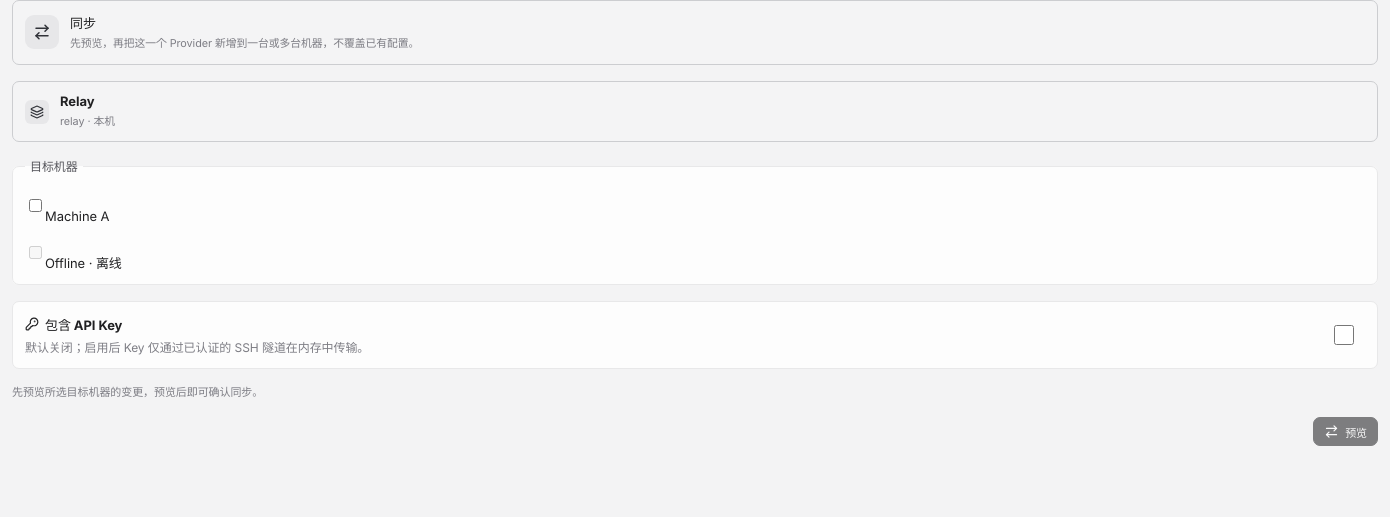
Test: provider transfer › makes preview actionable after selecting a target, then requires a second click to apply
Expected: the button "预览" is disabled, [1313,417,1378,446]
Expected: the checkbox labelled "Offline · 离线" is disabled, [29,237,42,268]
Step 1. Click the checkbox labelled "Machine A" → coordinates (36, 206), box [29,190,42,221]
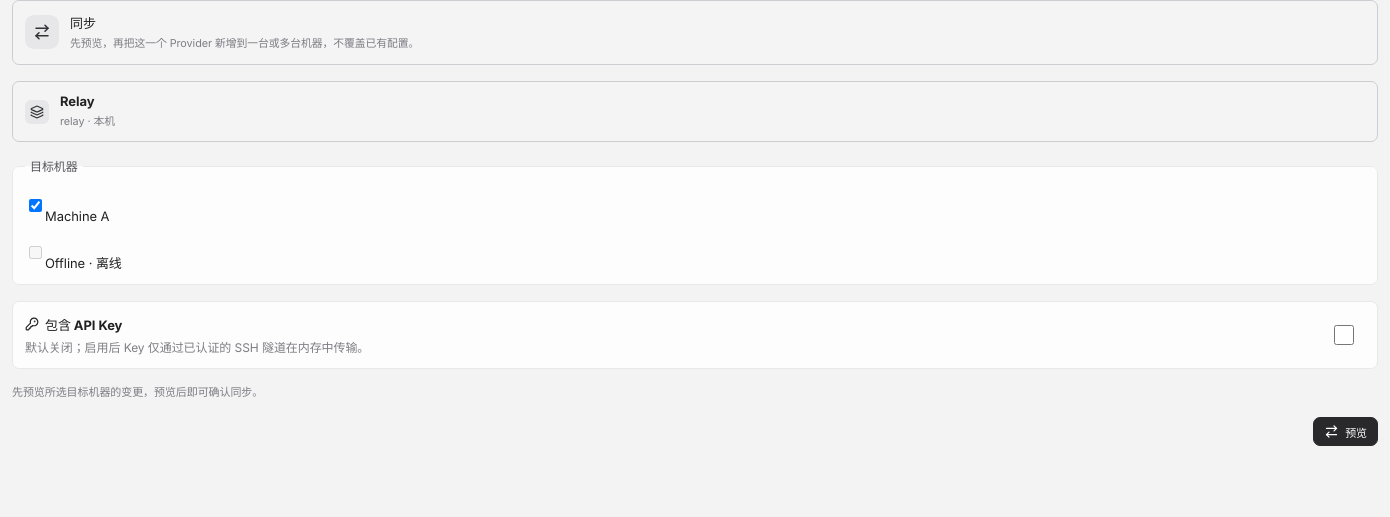
Result: the button "预览" is enabled
Step 2. Click the button "预览" → coordinates (1346, 432), box [1313,417,1378,446]
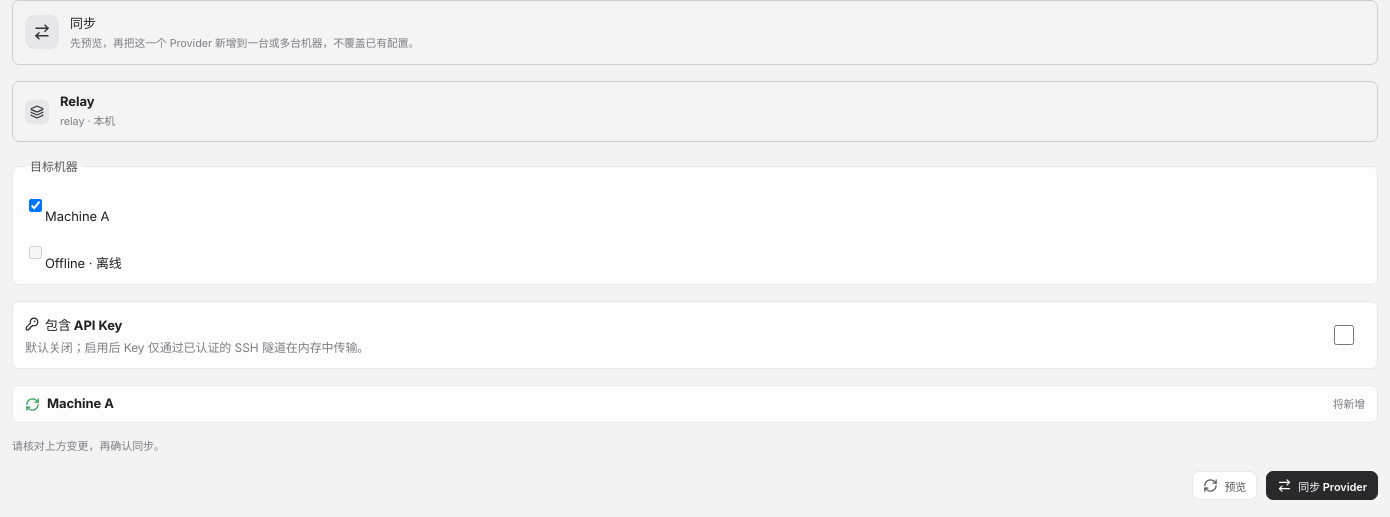
Result: the button "同步 Provider" is enabled
Step 3. Click the button "同步 Provider" → coordinates (1322, 486), box [1266,471,1378,500]
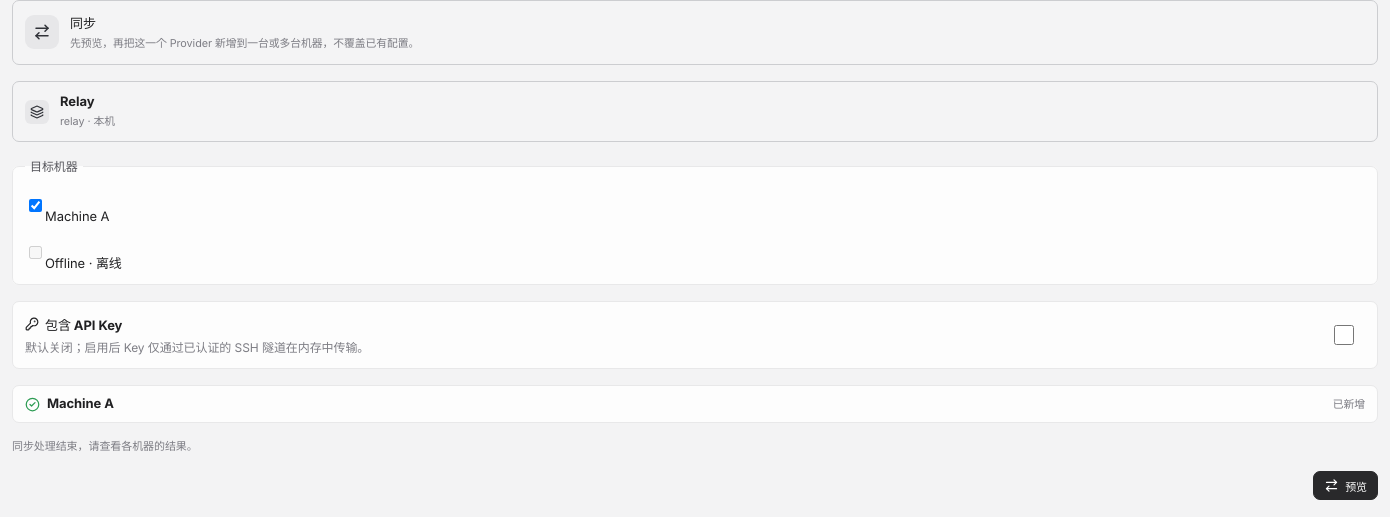
Result: the text "已新增" is shown at [1333,396,1365,412]
Result: the text "同步处理结束" is shown at [12,439,198,453]
